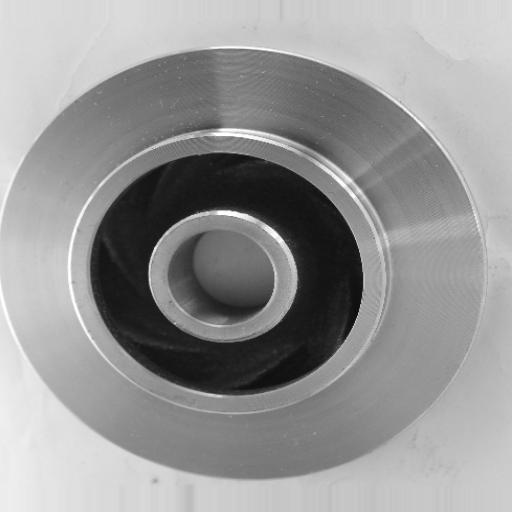polished_casting: (4, 46, 488, 484)
